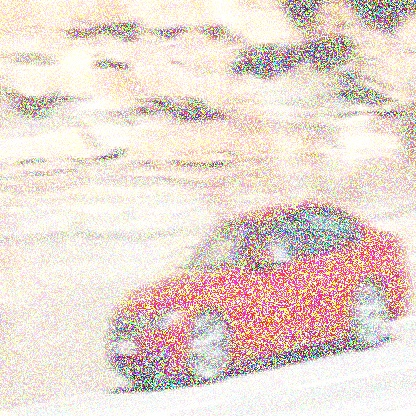Vehicle: (107, 202, 412, 396)
